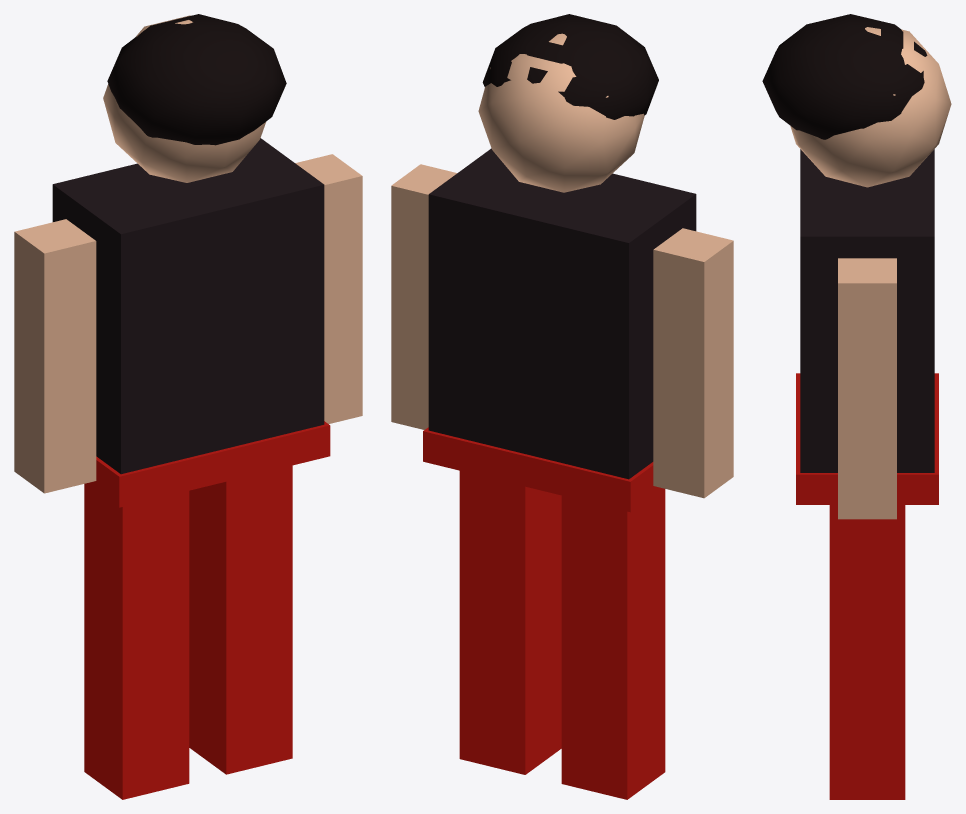
File: runner-fallen.glb
3 renders of one model, left to right at view 1: azimuth 30°, elevation 25°; view 2: azimuth 150°, elevation 25°; view 3: azimuth 270°, elevation 25°, orthographic.
Parts seen in each view (by area): view 1: Runner (Fallen); view 2: Runner (Fallen); view 3: Runner (Fallen).
Part boxes in pixels (left/top/right/bottom): Runner (Fallen): left=14, top=14, right=362, bottom=799; Runner (Fallen): left=391, top=14, right=733, bottom=799; Runner (Fallen): left=762, top=14, right=951, bottom=799.
Size of the model in its own units: 0.86 by 1.93 by 0.45.
